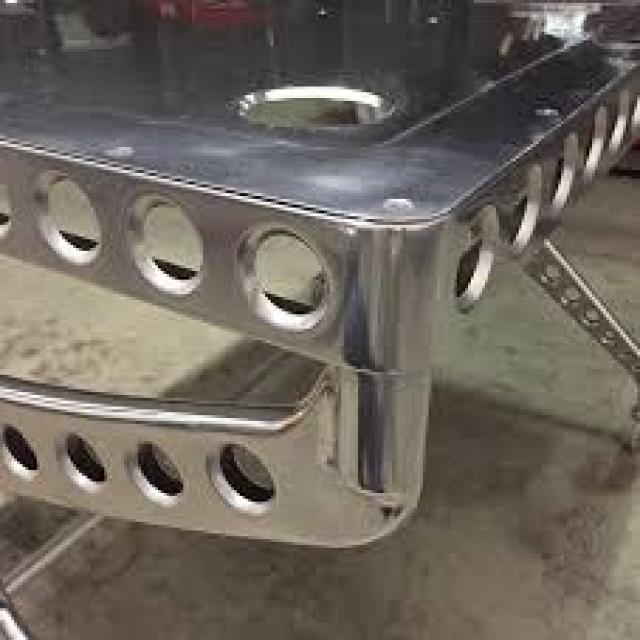holes: (233, 220, 336, 328), (233, 79, 405, 142), (120, 190, 210, 296), (27, 168, 106, 265), (208, 442, 281, 508), (125, 442, 189, 500), (61, 424, 112, 493), (0, 407, 42, 486), (502, 177, 535, 257), (457, 234, 490, 307)
